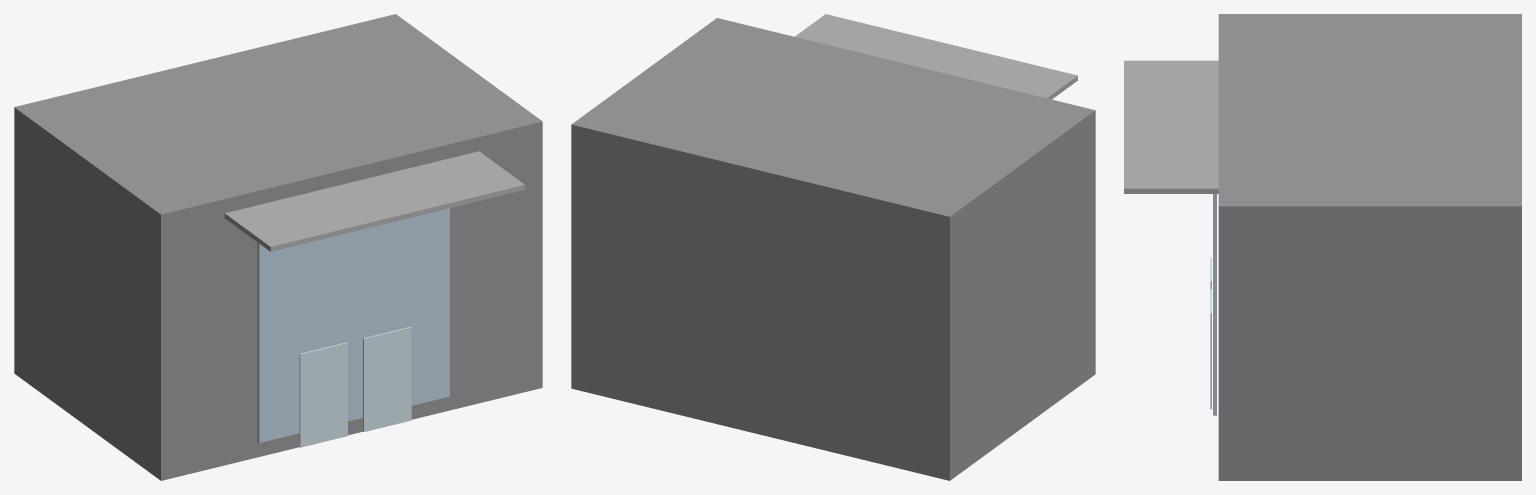
File: env-mod-mall.glb
3 views of the same model, side by side, from view 1: azimuth 30°, elevation 25°; view 2: azimuth 150°, elevation 25°; view 3: azimuth 270°, elevation 25° (orthographic). The views are drawn at different scales.
Size of the model in its own units: 12 by 8 by 10.5.
